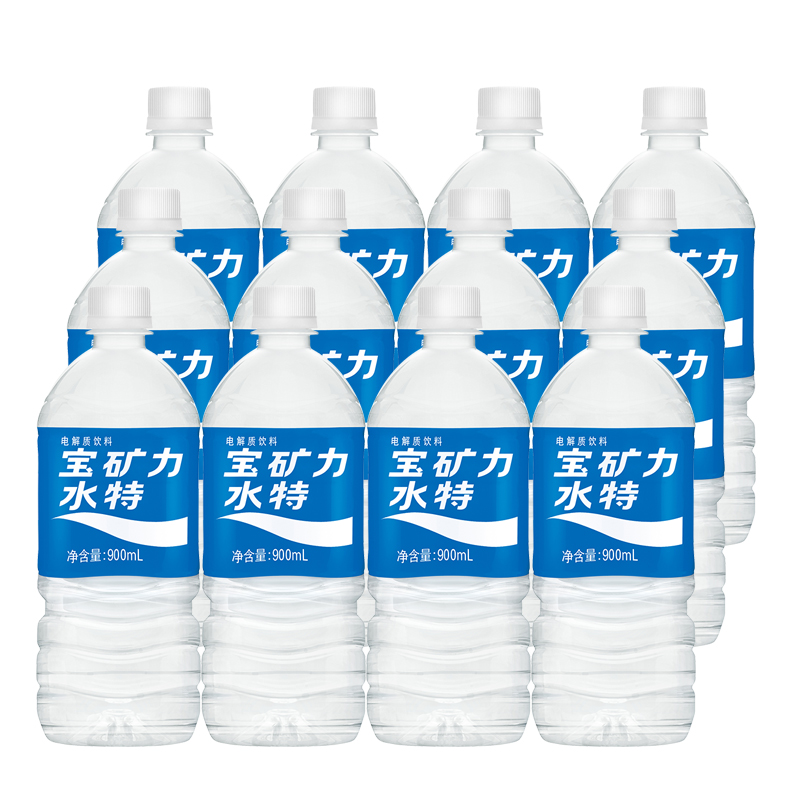POCARI SWEAT: (40, 290, 206, 755), (208, 289, 374, 754), (368, 287, 534, 752), (527, 289, 693, 754)
